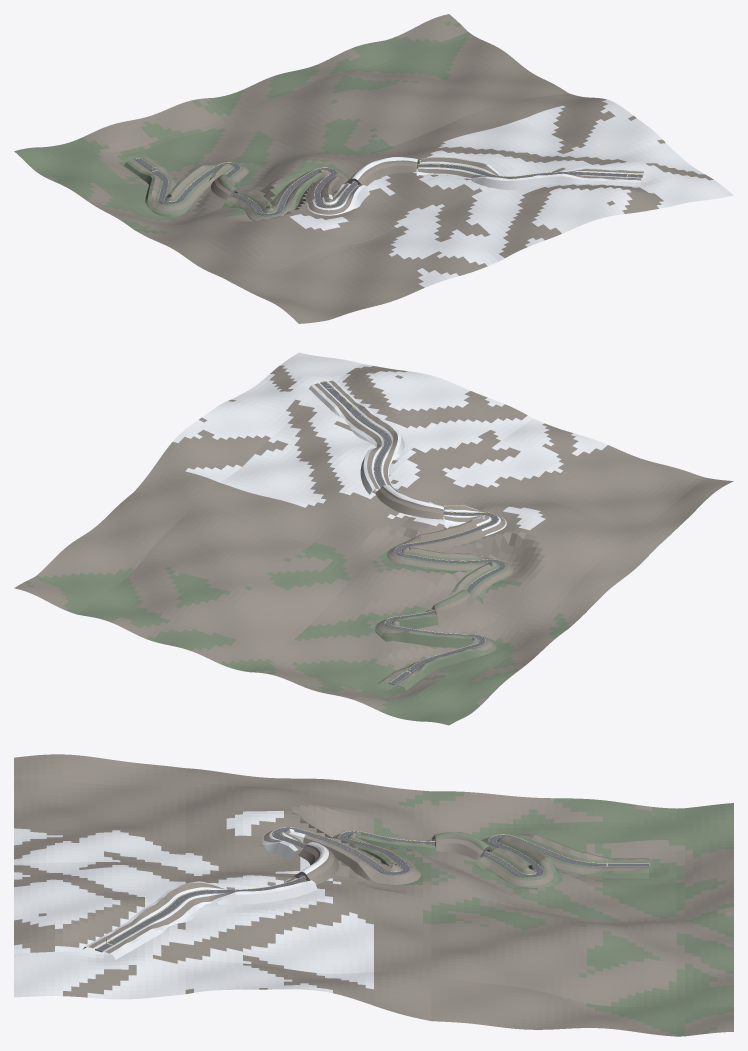
Rendered from Dag_Yol.fbx.
3 renders of one model, top to bottom at view 1: azimuth 30°, elevation 25°; view 2: azimuth 150°, elevation 25°; view 3: azimuth 270°, elevation 25°, orthographic. The views are drawn at different scales.
Visible parts, largest first — view 1: Arazi_Dis_04, Arazi_Dis_01, Arazi_Dis_03, Arazi_Dis_02, Arazi_Yamac_04, Arazi_Yamac_01, Yol_Yuzey, Arazi_Yamac_02, Arazi_Yamac_03, Arazi_TunelDagi_02; view 2: Arazi_Dis_01, Arazi_Dis_04, Arazi_Dis_03, Arazi_Dis_02, Arazi_Yamac_04, Arazi_Yamac_01, Arazi_Yamac_02, Yol_Yuzey, Arazi_Yamac_03, Arazi_TunelDagi_02, Arazi_TunelDagi_01; view 3: Arazi_Dis_01, Arazi_Dis_03, Arazi_Dis_04, Arazi_Dis_02, Arazi_Yamac_04, Arazi_Yamac_01, Yol_Yuzey, Arazi_Yamac_03, Arazi_Yamac_02, Arazi_TunelDagi_02, Arazi_TunelDagi_01.
Part boxes in pixels (bbox=[...]): Arazi_Dis_04: bbox=[157, 173, 515, 323]; Arazi_Dis_01: bbox=[232, 14, 590, 162]; Arazi_Dis_03: bbox=[394, 97, 733, 251]; Arazi_Dis_02: bbox=[14, 94, 369, 241]; Arazi_Yamac_04: bbox=[416, 156, 643, 189]; Arazi_Yamac_01: bbox=[124, 156, 248, 217]; Yol_Yuzey: bbox=[136, 158, 642, 215]; Arazi_Yamac_02: bbox=[208, 164, 325, 220]; Arazi_Yamac_03: bbox=[304, 169, 369, 215]; Arazi_TunelDagi_02: bbox=[346, 157, 420, 185]; Arazi_Dis_01: bbox=[14, 463, 373, 668]; Arazi_Dis_04: bbox=[374, 409, 733, 606]; Arazi_Dis_03: bbox=[157, 352, 515, 529]; Arazi_Dis_02: bbox=[232, 530, 590, 725]; Arazi_Yamac_04: bbox=[309, 380, 404, 494]; Arazi_Yamac_01: bbox=[375, 618, 497, 690]; Arazi_Yamac_02: bbox=[401, 547, 513, 629]; Yol_Yuzey: bbox=[321, 382, 505, 683]; Arazi_Yamac_03: bbox=[387, 505, 506, 563]; Arazi_TunelDagi_02: bbox=[375, 484, 443, 519]; Arazi_TunelDagi_01: bbox=[431, 590, 475, 618]; Arazi_Dis_01: bbox=[374, 889, 733, 1036]; Arazi_Dis_03: bbox=[14, 867, 373, 1005]; Arazi_Dis_04: bbox=[14, 754, 373, 888]; Arazi_Dis_02: bbox=[374, 785, 733, 931]; Arazi_Yamac_04: bbox=[83, 878, 317, 959]; Arazi_Yamac_01: bbox=[482, 834, 648, 887]; Yol_Yuzey: bbox=[97, 827, 648, 950]; Arazi_Yamac_03: bbox=[262, 829, 421, 884]; Arazi_Yamac_02: bbox=[332, 832, 528, 879]; Arazi_TunelDagi_02: bbox=[292, 842, 339, 884]; Arazi_TunelDagi_01: bbox=[431, 832, 493, 860].
Size of the model in its own units: 1232 by 234 by 1398.
